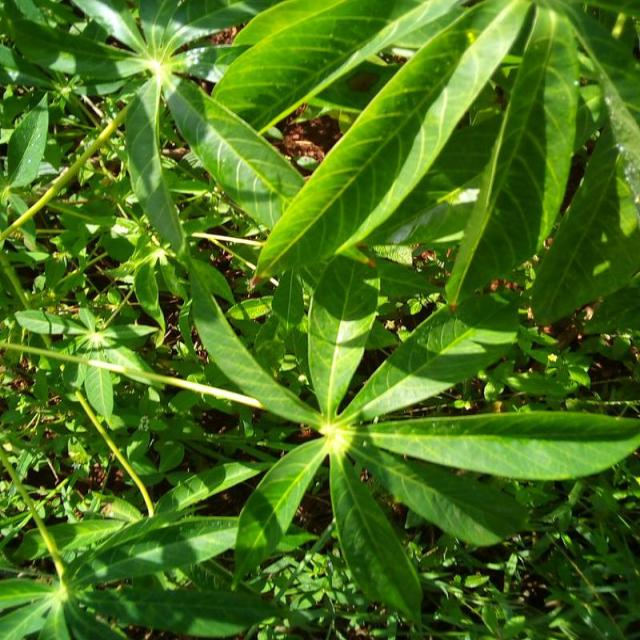cassava leaf: (1, 0, 638, 633), (250, 0, 534, 287)
